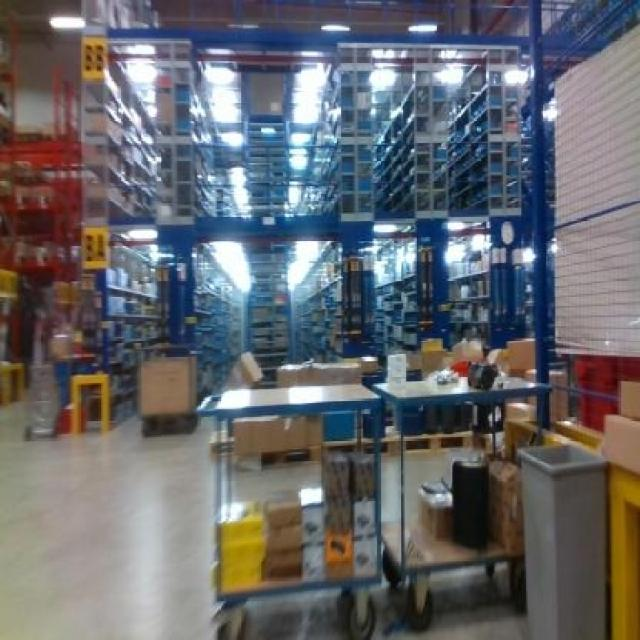pallets: (197, 378, 380, 637), (517, 445, 603, 637), (137, 345, 194, 434), (320, 408, 352, 440)
